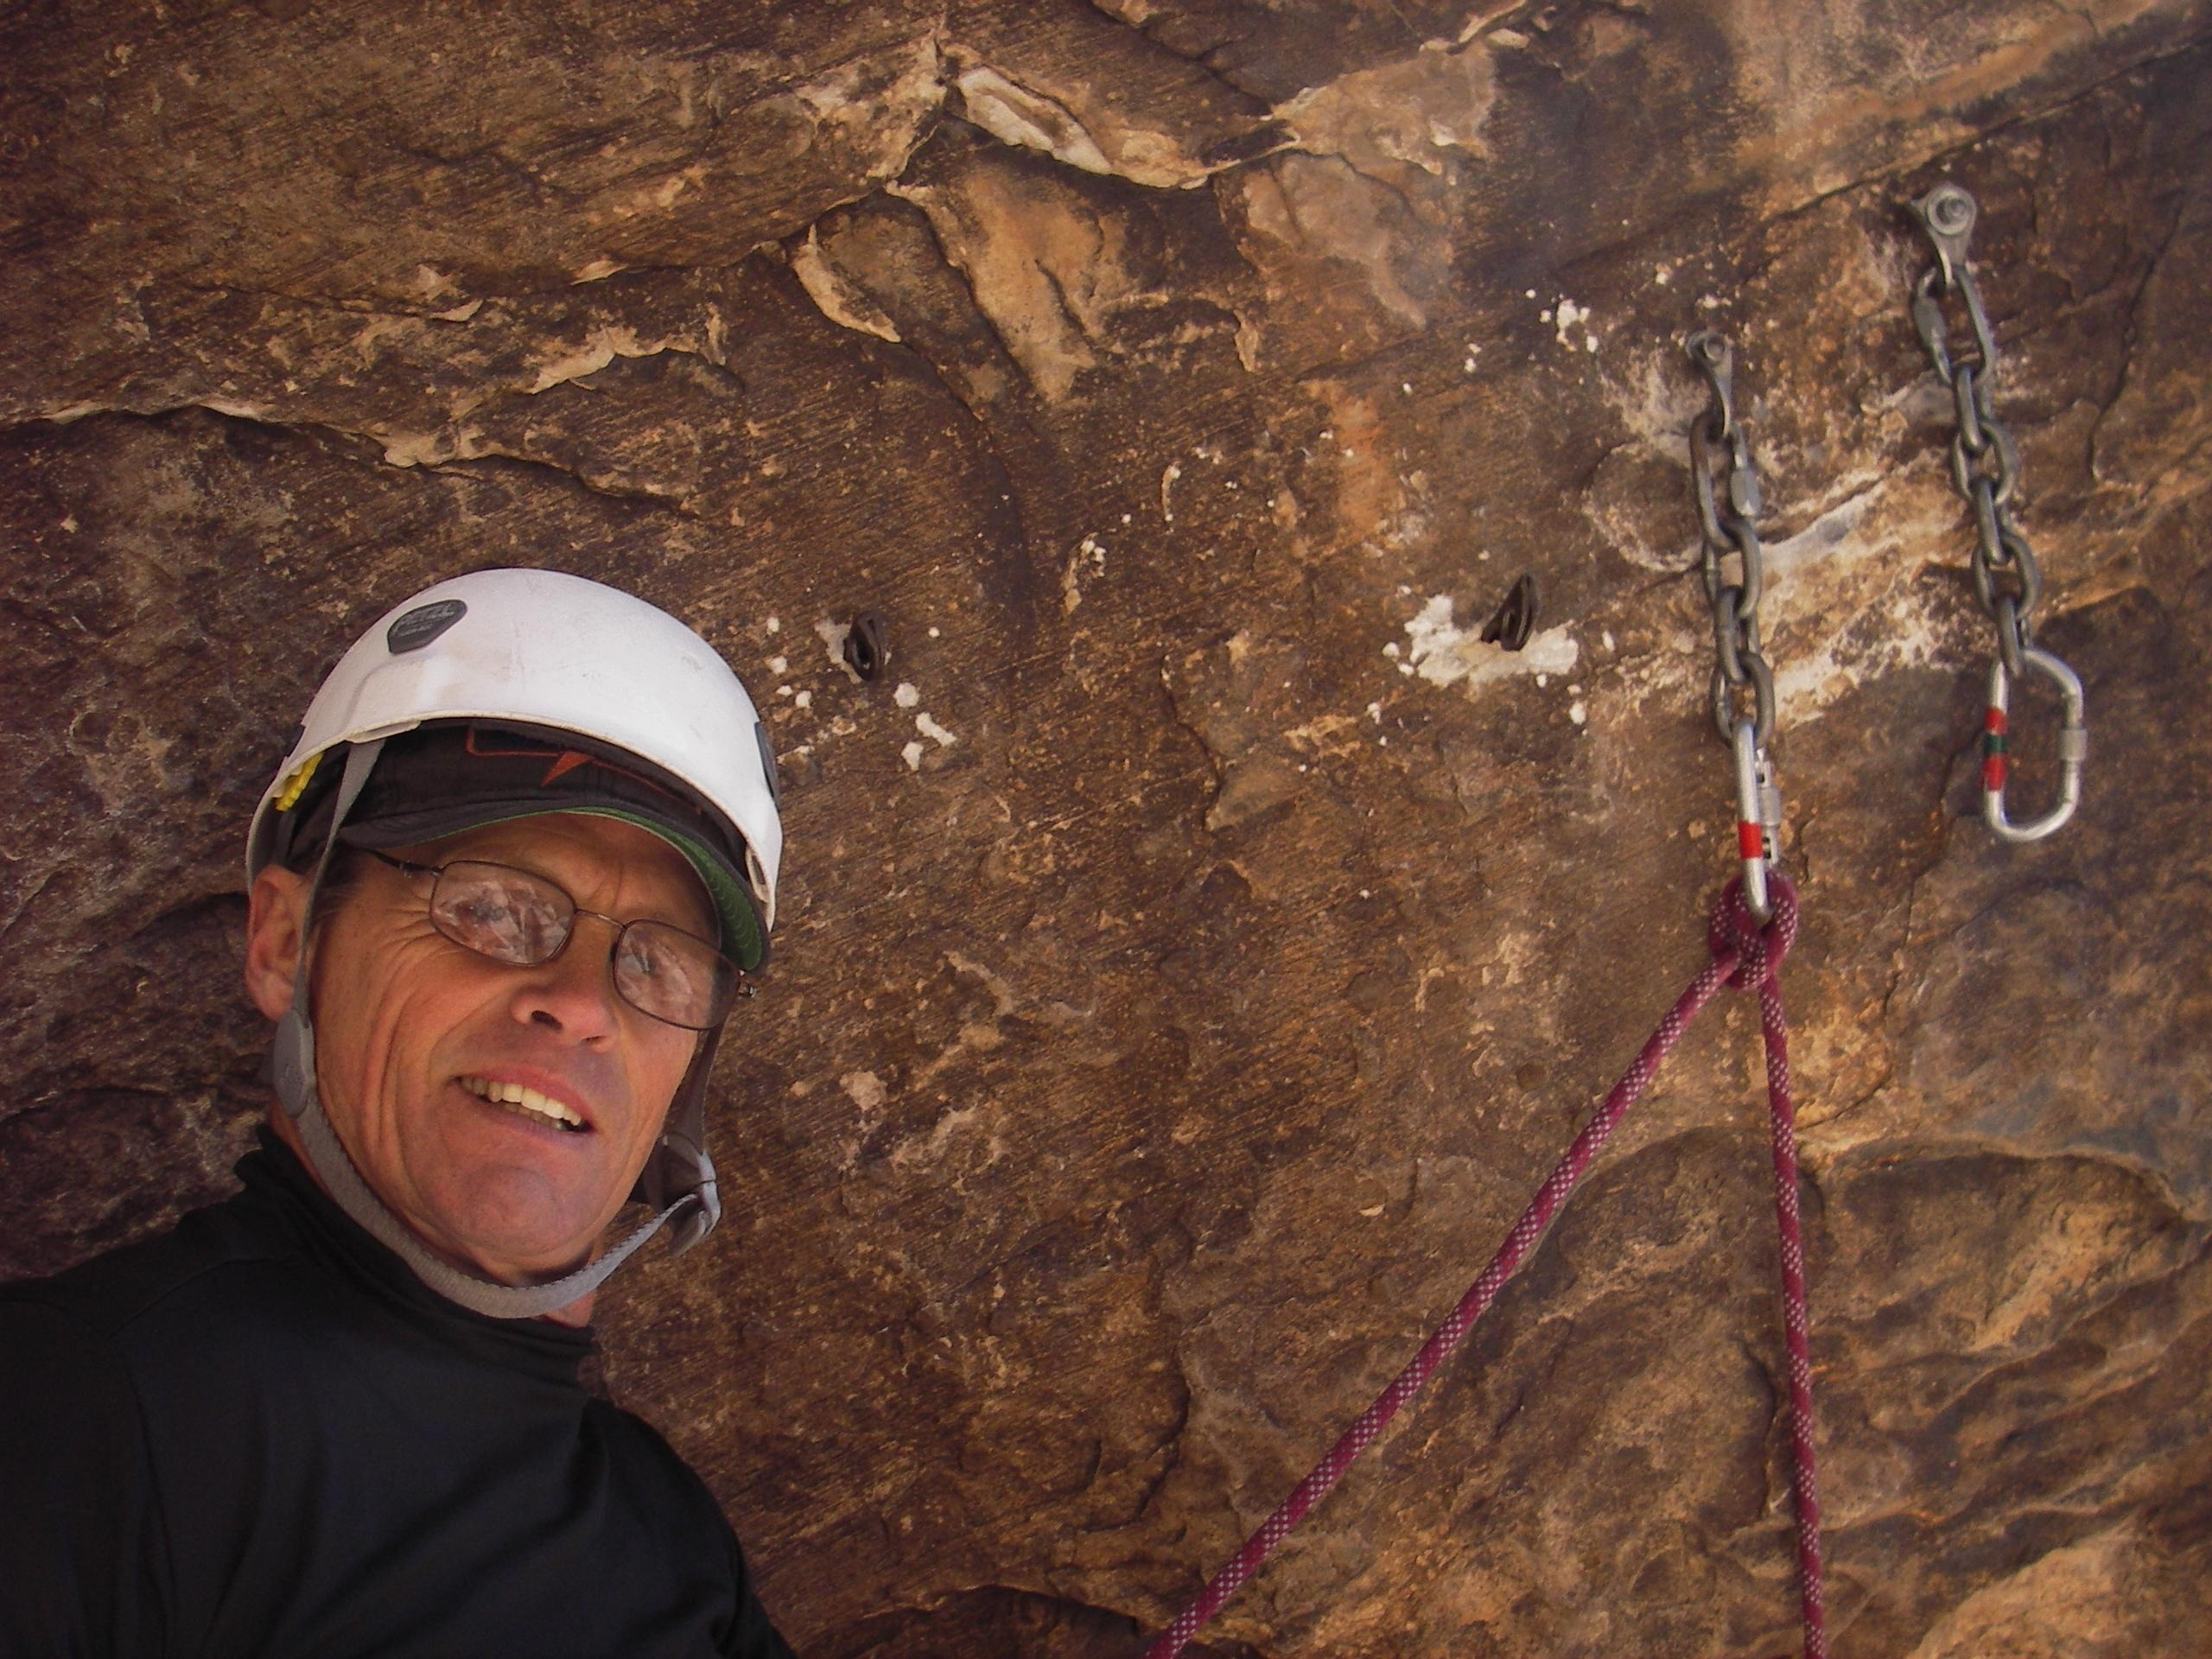helmet: (230, 552, 792, 962)
